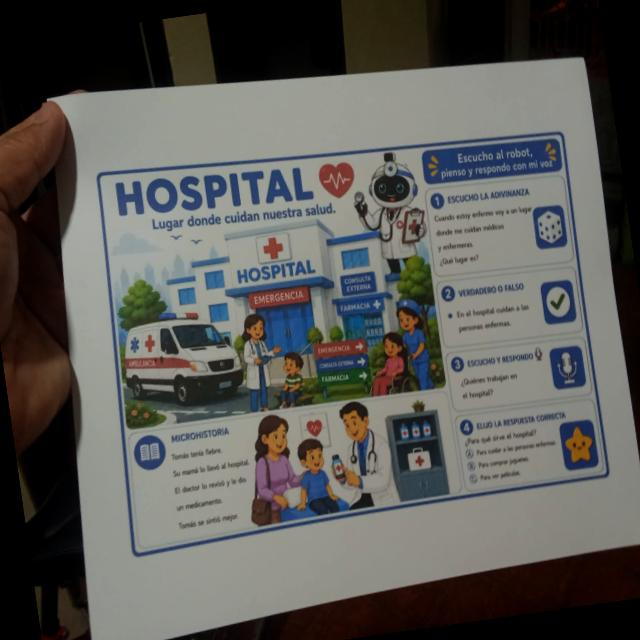hospital: (76, 101, 618, 564)
